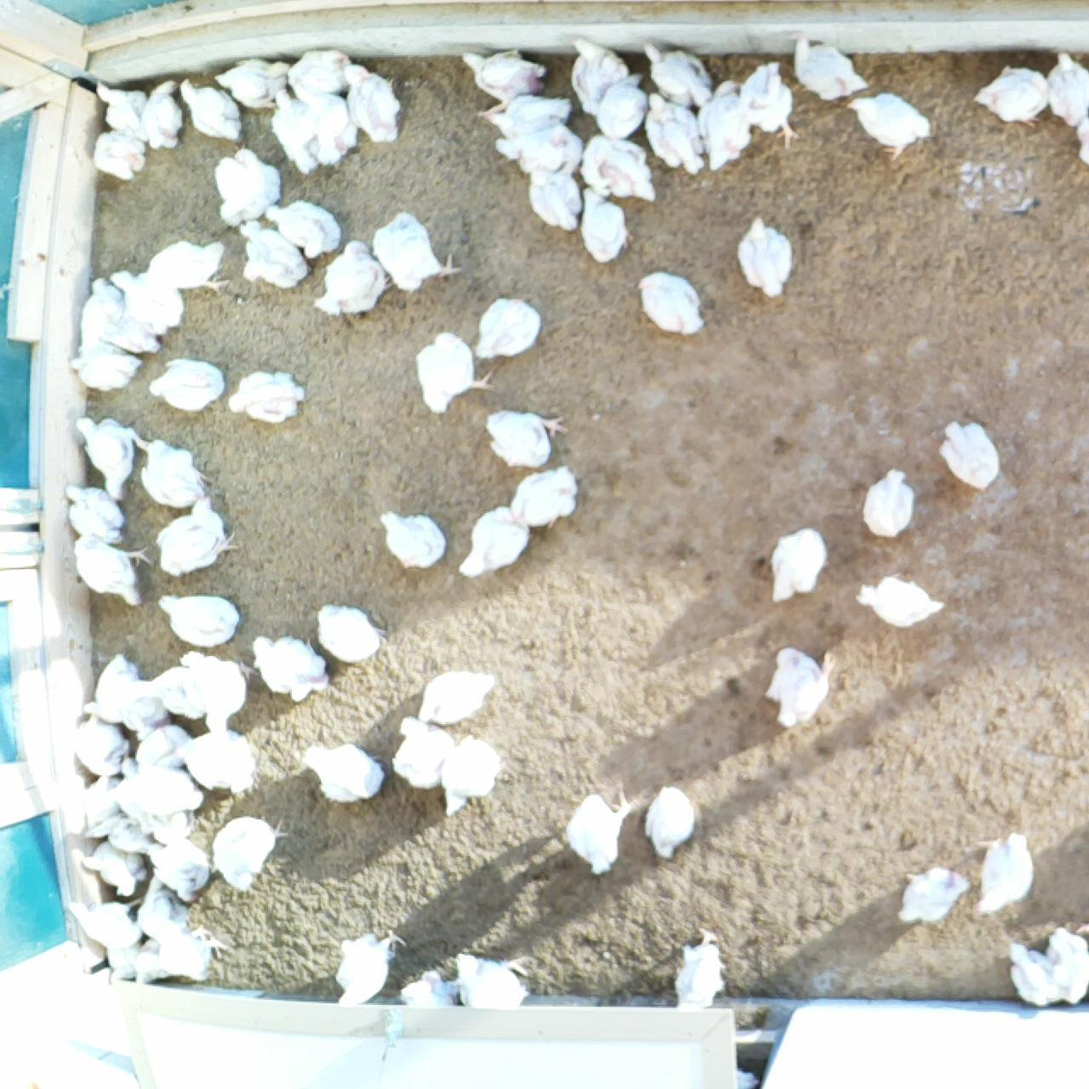chicken: (558, 769, 660, 891), (767, 632, 855, 745), (144, 491, 240, 587), (373, 196, 466, 294), (406, 324, 500, 414), (159, 644, 248, 739), (242, 623, 336, 711), (127, 918, 234, 992), (209, 809, 297, 897), (571, 125, 663, 209), (753, 518, 837, 608), (104, 255, 188, 345), (845, 84, 939, 164), (291, 735, 393, 807), (363, 494, 451, 577), (637, 78, 703, 188), (73, 403, 144, 505), (67, 528, 156, 609), (81, 642, 159, 733), (131, 434, 211, 520), (666, 913, 733, 1015), (690, 68, 755, 172), (733, 55, 804, 150), (453, 498, 530, 584), (147, 226, 236, 300), (850, 566, 948, 633), (308, 234, 384, 320), (336, 917, 405, 1011), (212, 147, 287, 233), (445, 938, 537, 1008), (466, 78, 568, 141), (491, 127, 594, 189), (562, 31, 629, 126), (894, 859, 973, 939), (449, 34, 549, 97), (624, 265, 708, 340), (72, 643, 157, 717), (626, 768, 697, 856), (438, 727, 506, 818), (477, 400, 575, 463), (180, 724, 263, 798), (470, 283, 549, 360), (790, 30, 871, 105), (974, 59, 1053, 135), (142, 355, 230, 423), (728, 210, 795, 299), (861, 460, 934, 541), (109, 763, 205, 824), (972, 831, 1042, 912), (220, 365, 311, 427), (634, 34, 714, 103), (342, 58, 405, 145), (576, 179, 639, 264), (151, 586, 239, 646), (302, 598, 379, 666), (70, 834, 150, 899), (419, 659, 504, 718), (389, 714, 448, 799), (175, 69, 241, 143), (939, 412, 1002, 489), (134, 61, 186, 154), (241, 226, 308, 298), (267, 195, 346, 256), (147, 835, 213, 908), (270, 87, 319, 184), (65, 347, 148, 404), (1039, 910, 1089, 1003), (306, 87, 358, 176), (593, 73, 664, 138), (524, 164, 587, 237), (283, 34, 356, 94), (79, 274, 137, 349), (63, 706, 124, 777), (132, 707, 200, 769), (63, 892, 136, 949), (512, 465, 585, 521), (84, 121, 153, 180), (86, 75, 147, 140), (1039, 45, 1089, 122), (59, 478, 124, 537), (133, 872, 190, 939), (214, 56, 292, 104), (1006, 938, 1056, 1002), (72, 776, 121, 830), (402, 960, 453, 1005), (143, 809, 196, 847), (101, 943, 144, 974)
